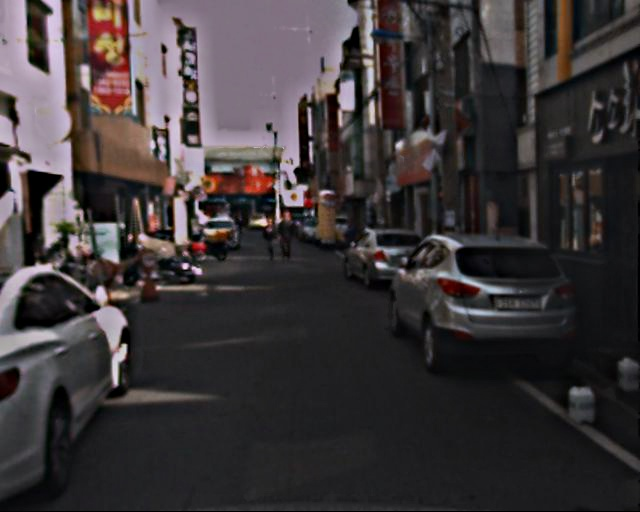person: (341, 215, 363, 273), (278, 214, 300, 270), (262, 217, 282, 266)
